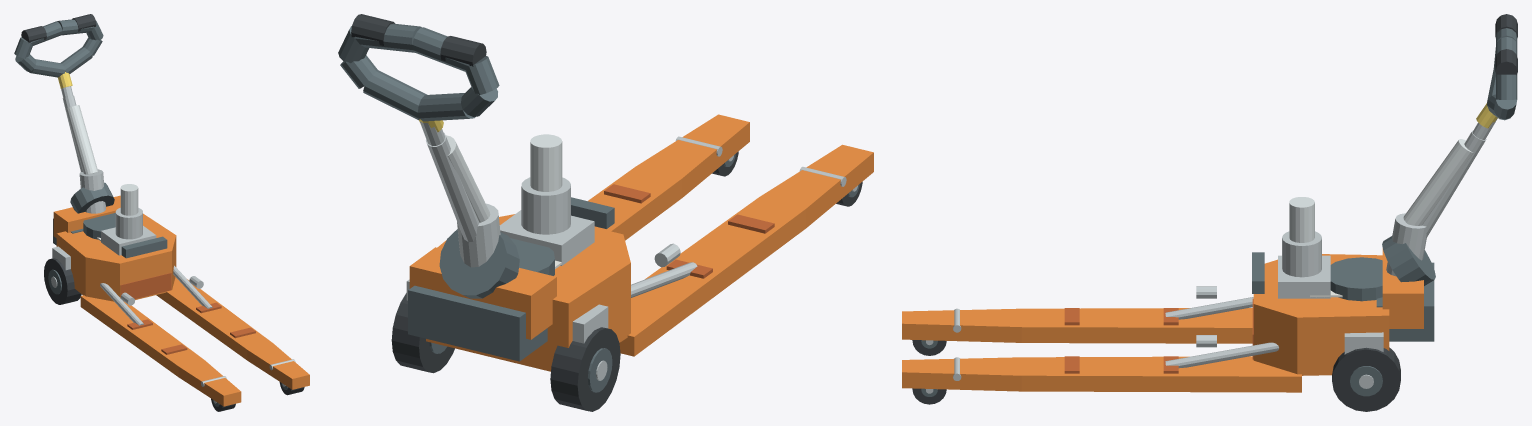
File: pallet-jack-industrial.glb
3 renders of one model, left to right at view 1: azimuth 30°, elevation 25°; view 2: azimuth 150°, elevation 25°; view 3: azimuth 270°, elevation 25°, orthographic. The views are drawn at different scales.
Parts seen in each view (by area): view 1: Industrial hydraulic hand pallet truck | mid-poly; view 2: Industrial hydraulic hand pallet truck | mid-poly; view 3: Industrial hydraulic hand pallet truck | mid-poly.
Part boxes in pixels (<box>): Industrial hydraulic hand pallet truck | mid-poly: <box>14,14,309,411</box>; Industrial hydraulic hand pallet truck | mid-poly: <box>338,14,873,411</box>; Industrial hydraulic hand pallet truck | mid-poly: <box>902,14,1517,411</box>.
Bounding box in the file's own units: 0.777 × 1.63 × 2.68.
